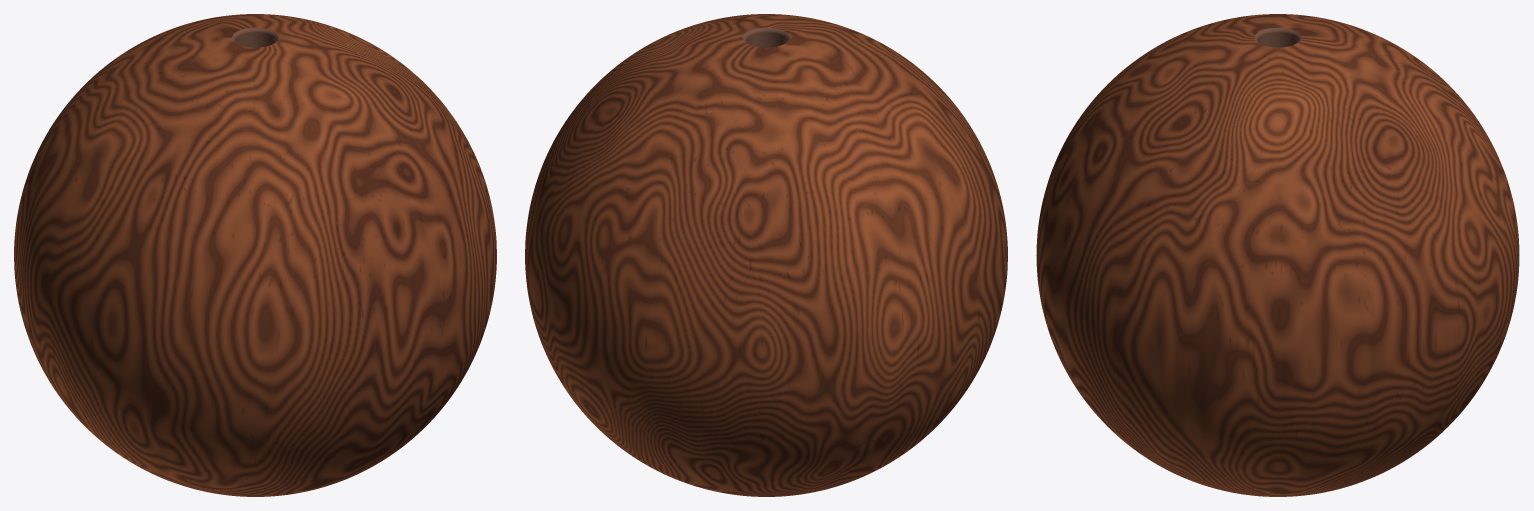
Rendered from wood-daye-huanghuali-12mm.glb.
3 renders of one model, left to right at view 1: azimuth 30°, elevation 25°; view 2: azimuth 150°, elevation 25°; view 3: azimuth 270°, elevation 25°, orthographic.
Visible parts, largest first — view 1: daye-huanghuali; view 2: daye-huanghuali; view 3: daye-huanghuali.
Part boxes in pixels (x1=…): daye-huanghuali: x1=14, y1=14, x2=496, y2=496; daye-huanghuali: x1=525, y1=14, x2=1007, y2=496; daye-huanghuali: x1=1036, y1=14, x2=1519, y2=496.
Size of the model in its own units: 0.012 by 0.0119 by 0.012.
2 materials, 1 textured.
